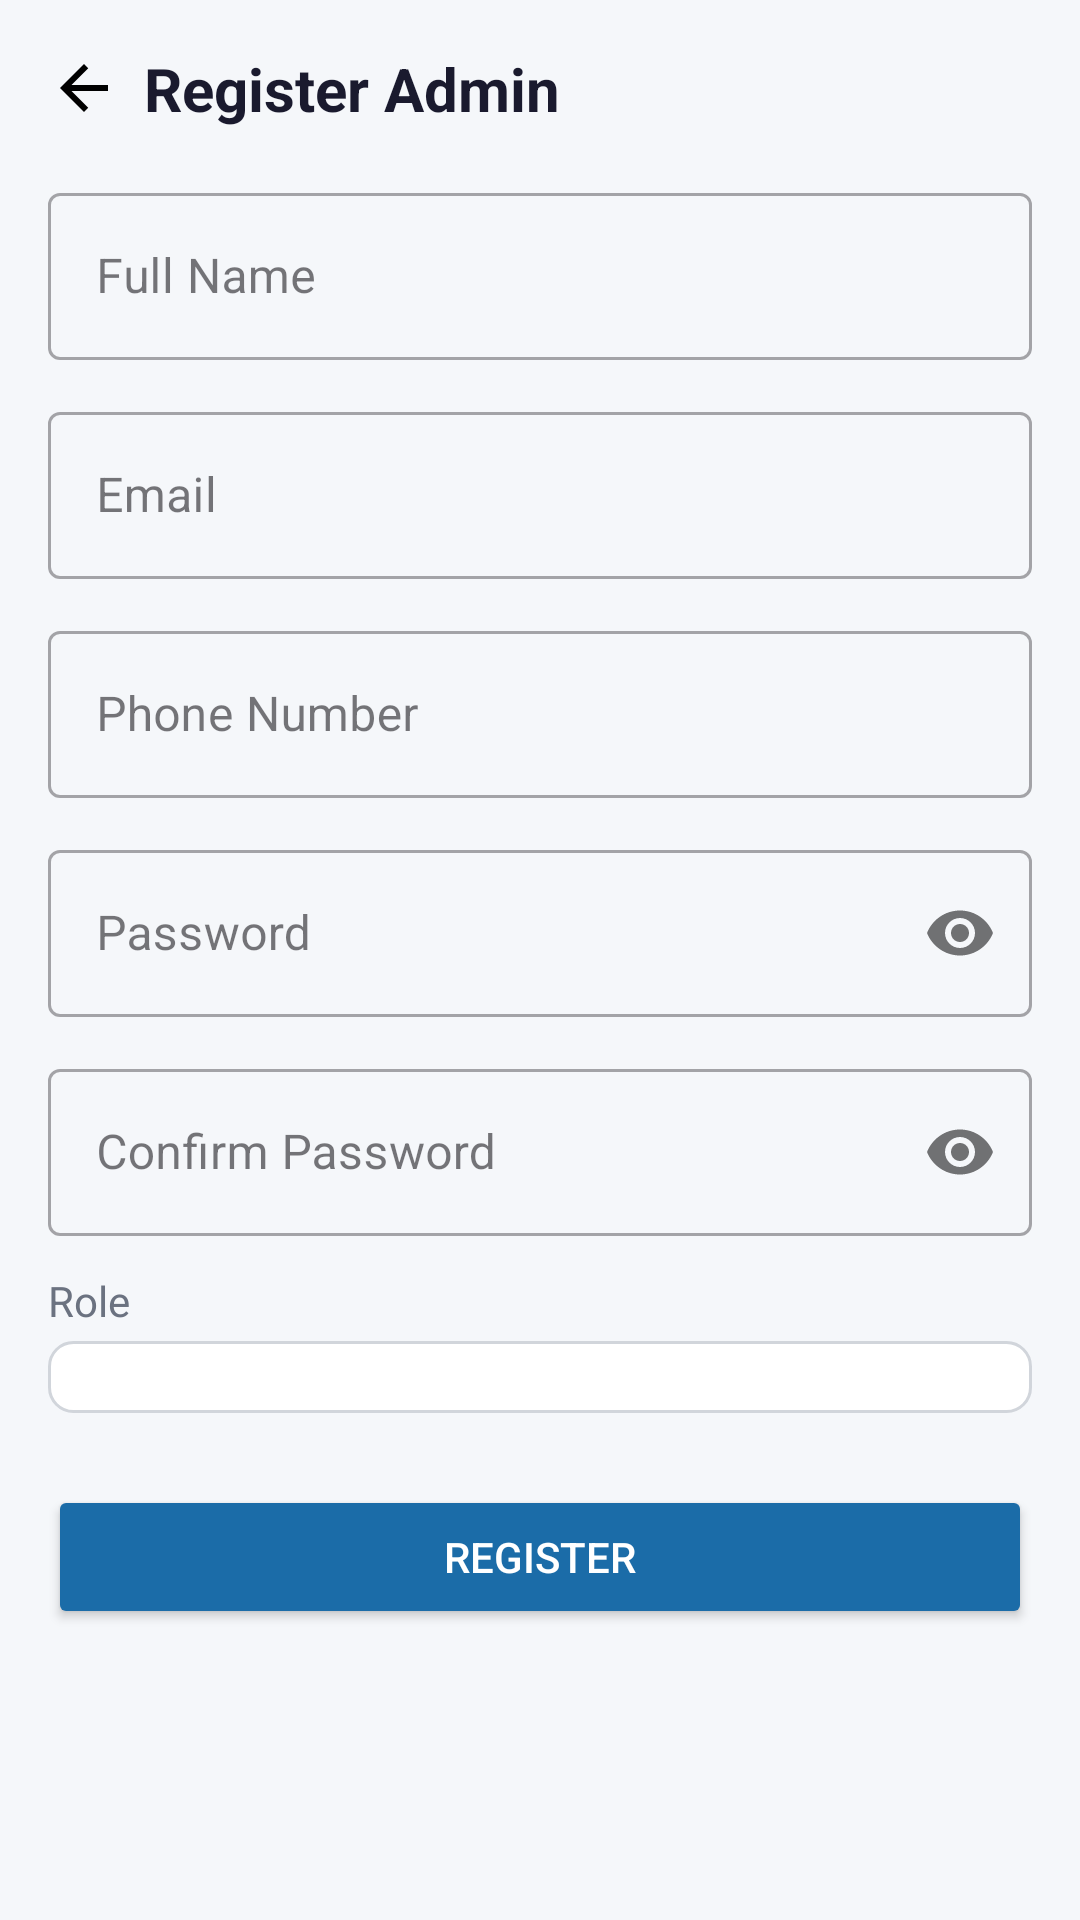

Icons on this 1080*1920 Android screen, each with the point to tap as (x,y):
back: (84,88)
